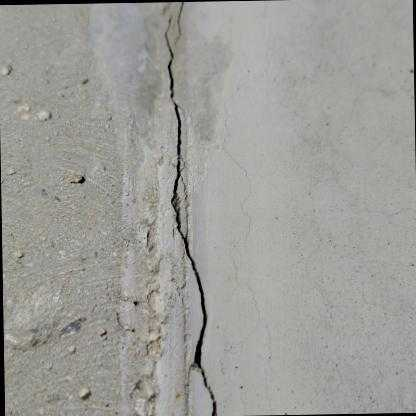crack: (162, 12, 217, 416), (172, 1, 184, 47)
